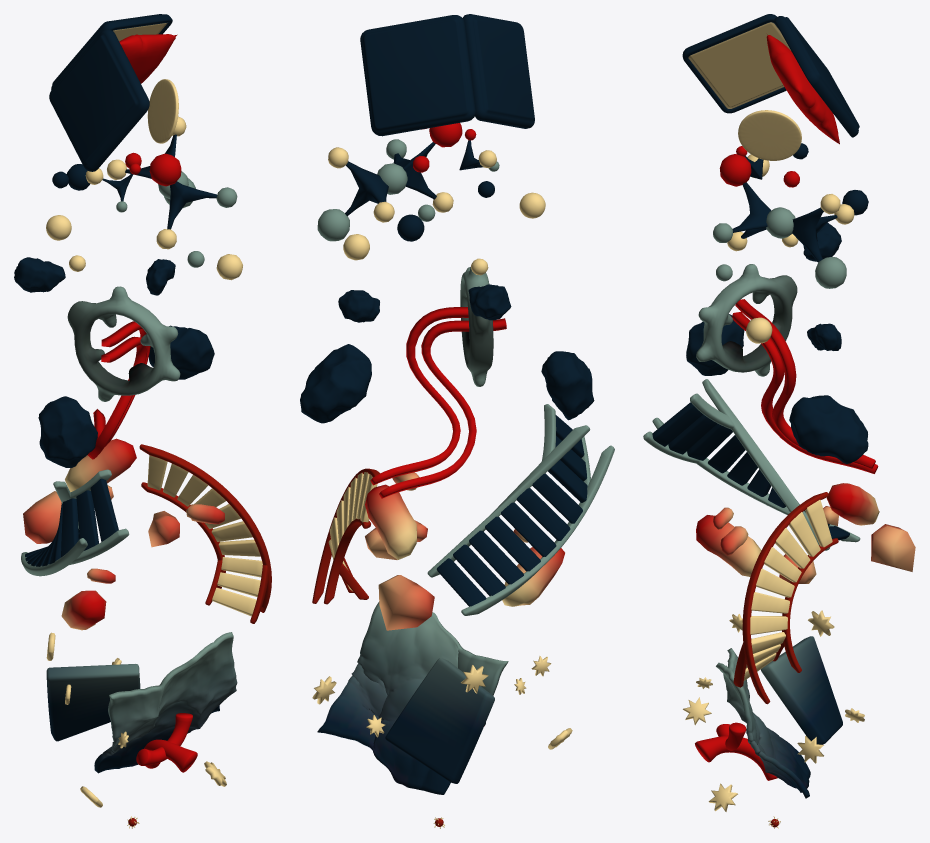
File: 03_Future_Rigid_Bodies.glb
3 renders of one model, left to right at view 1: azimuth 30°, elevation 25°; view 2: azimuth 150°, elevation 25°; view 3: azimuth 270°, elevation 25°, orthographic. The views are drawn at different scales.
Parts seen in each view (by area): view 1: 03_Case, 03_Water_Blanket, 03_Sun_Lounger.001, 03_Space_ring, 03_Sun_Lounger, 03_Underwater_Rectangle, 03_Formula, 03_Asteroid_001, 03_Space_track, 03_Asteroid_002, 03_Liquid Domain_002.001, 03_Flyingman (+11 smaller); view 2: 03_Case, 03_Sun_Lounger, 03_Water_Blanket, 03_Underwater_Rectangle, 03_Formula, 03_Space_track, 03_Asteroid_002, 03_Sun_Lounger.001, 03_Asteroid_001, 03_Liquid Domain_002.001, 03_Space_ring, 03_Juice_drops.001 (+6 smaller); view 3: 03_Case, 03_Sun_Lounger.001, 03_Sun_Lounger, 03_Formula, 03_Space_ring, 03_Underwater_Rectangle, 03_Asteroid_002, 03_Water_Blanket, 03_Space_track, 03_Nobel_prize, 03_Nobel_pillow, 03_Liquid Domain_002 (+8 smaller).
Boxes of the visible parts, x1,y1,x2,y2 form: 03_Case: (49,14,172,171); 03_Water_Blanket: (94,632,237,773); 03_Sun_Lounger.001: (139,444,271,623); 03_Space_ring: (67,286,180,401); 03_Sun_Lounger: (21,469,129,576); 03_Underwater_Rectangle: (46,664,140,741); 03_Formula: (107,116,237,249); 03_Asteroid_001: (38,396,97,467); 03_Space_track: (88,321,150,459); 03_Asteroid_002: (148,325,214,379); 03_Liquid Domain_002.001: (65,438,136,492); 03_Flyingman: (136,713,197,772); 03_Case: (360,14,534,136); 03_Sun_Lounger: (427,404,614,615); 03_Water_Blanket: (317,601,508,794); 03_Underwater_Rectangle: (385,658,494,783); 03_Formula: (317,123,462,241); 03_Space_track: (370,307,506,498); 03_Asteroid_002: (300,344,371,423); 03_Sun_Lounger.001: (312,468,380,604); 03_Asteroid_001: (541,351,594,420); 03_Liquid Domain_002.001: (365,484,416,559); 03_Space_ring: (460,267,493,386); 03_Juice_drops.001: (378,575,434,630); 03_Case: (682,14,859,137); 03_Sun_Lounger.001: (733,492,838,704); 03_Sun_Lounger: (643,379,860,550); 03_Formula: (713,154,854,288); 03_Space_ring: (696,264,797,376); 03_Underwater_Rectangle: (761,636,842,744); 03_Asteroid_002: (789,395,868,463); 03_Water_Blanket: (716,648,810,798); 03_Space_track: (732,299,878,473); 03_Nobel_prize: (738,110,801,160); 03_Nobel_pillow: (766,34,839,144); 03_Liquid Domain_002: (696,515,761,576).
Bounding box in the file's own units: 19.75 × 61.71 × 18.95.
